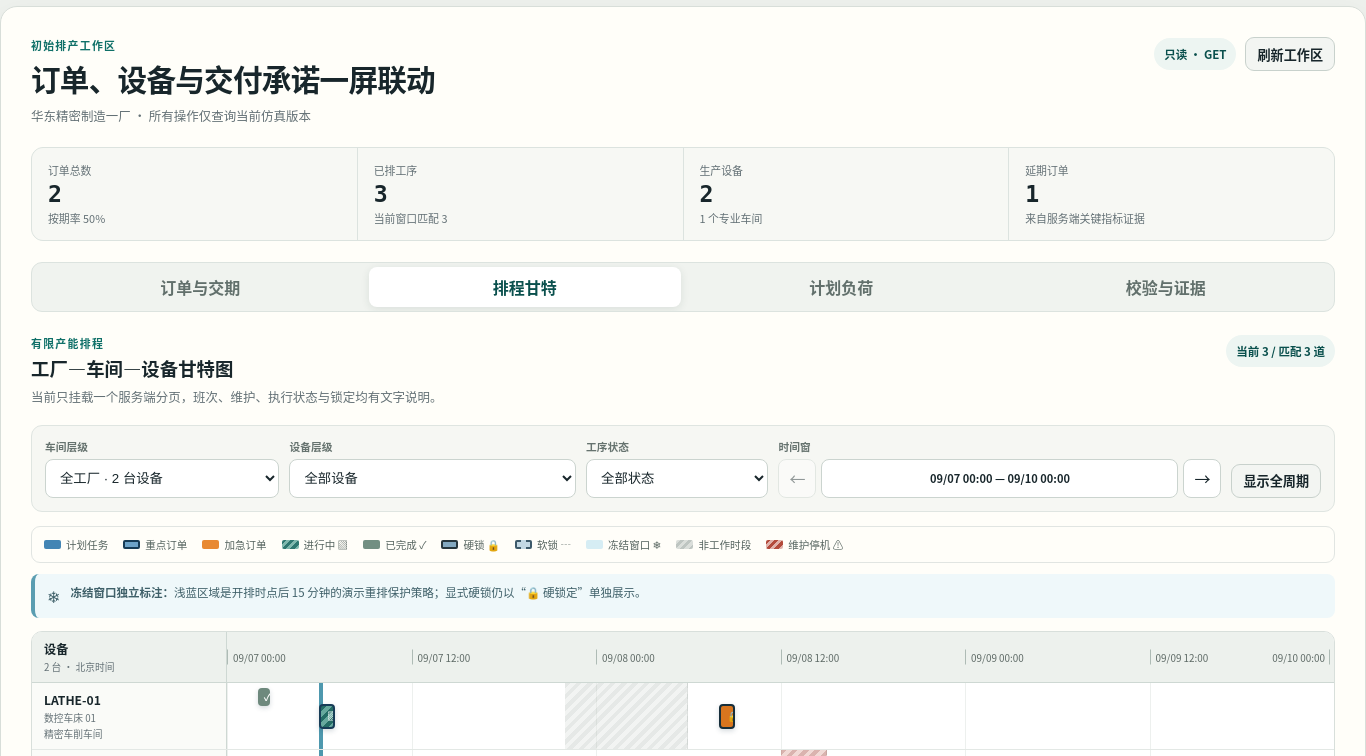
中文初始排产工作区 › 计划负荷明确非 OEE，并按服务端比例显示瓶颈关注
Click the tab "计划负荷". click: [841, 286]
box: x1=685 y1=266 x2=998 y2=306
(page scrolled)
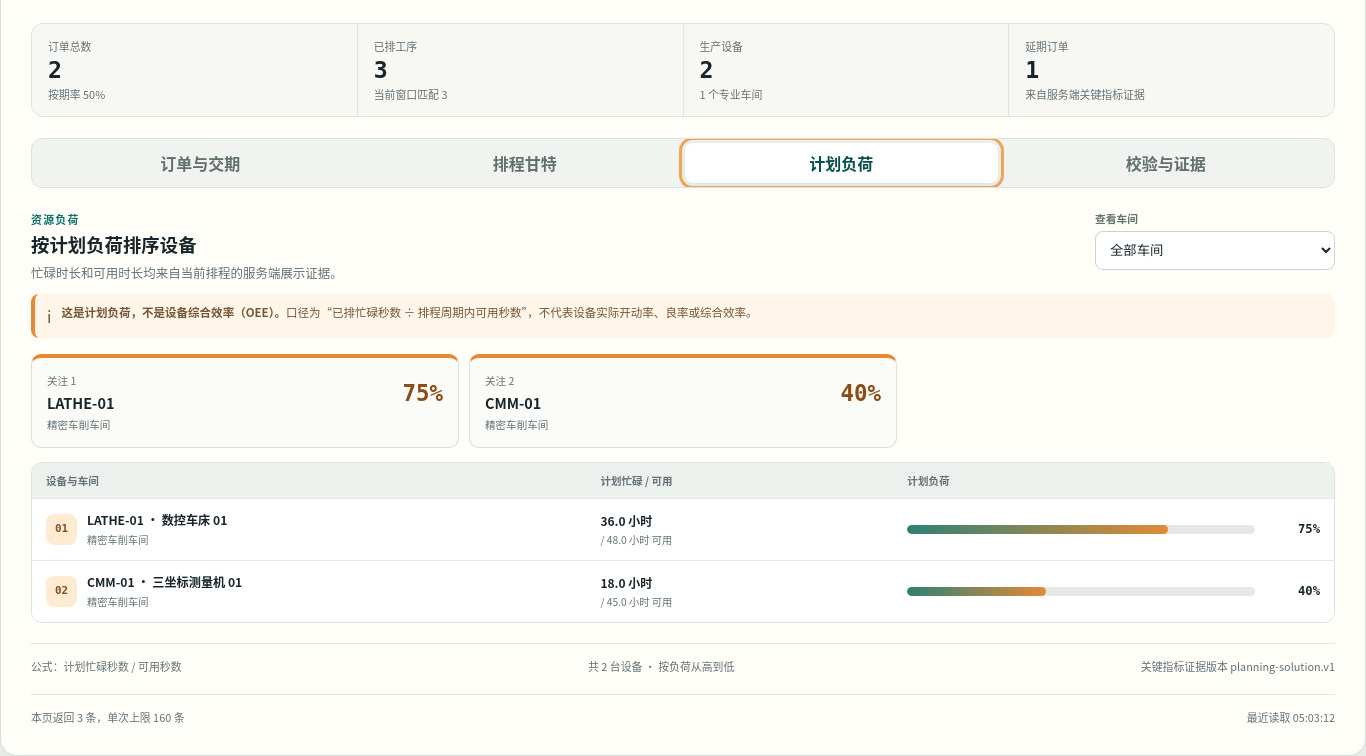
Expected: the text "这是计划负荷，不是设备综合效率（OEE）。" is shown, x1=61 y1=304 x2=286 y2=320
Expected: the 1st text "75%" is shown, x1=402 y1=382 x2=443 y2=404
Expected: the text "公式：计划忙碌秒数 / 可用秒数" is shown, x1=31 y1=658 x2=182 y2=674
